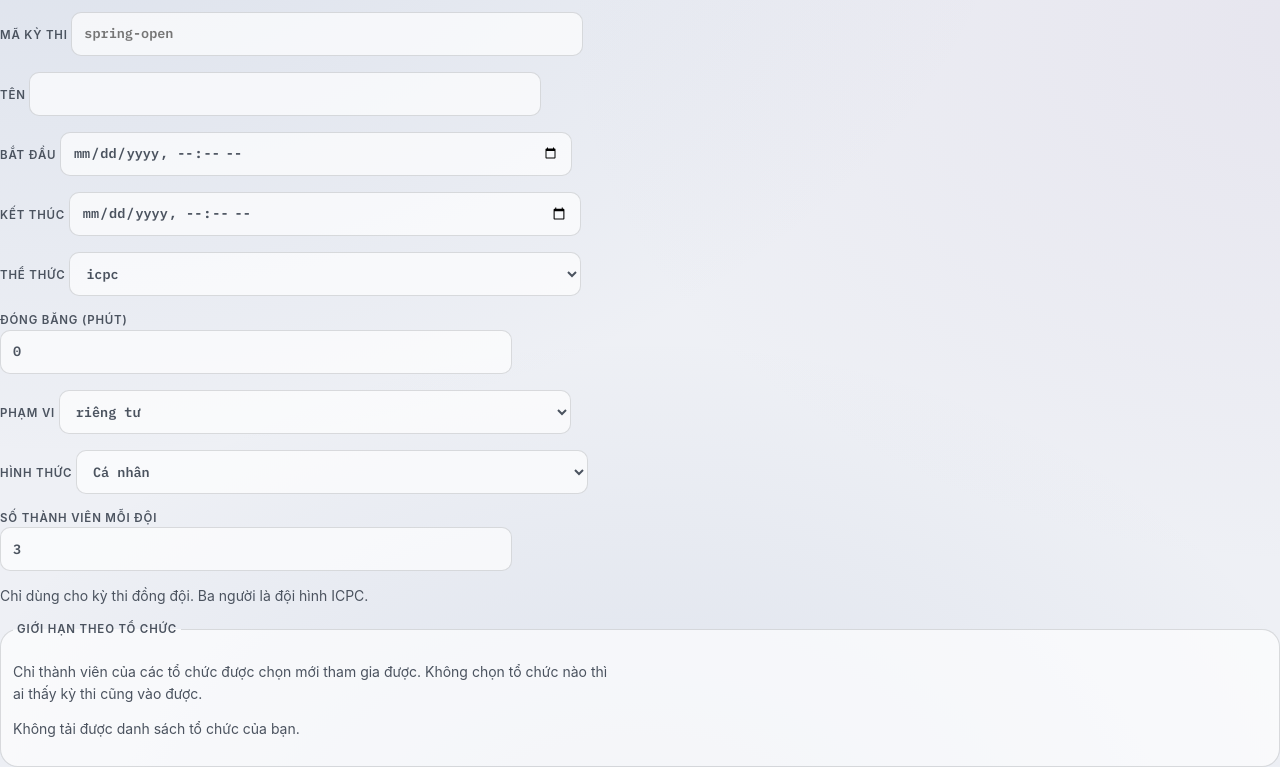
Test case: ContestNewPage transport failures › surfaces a connection message and re-enables the button when the network fails
Type "spring" into the field labelled "Mã kỳ thi" at (327, 34), box [71,12,583,56]
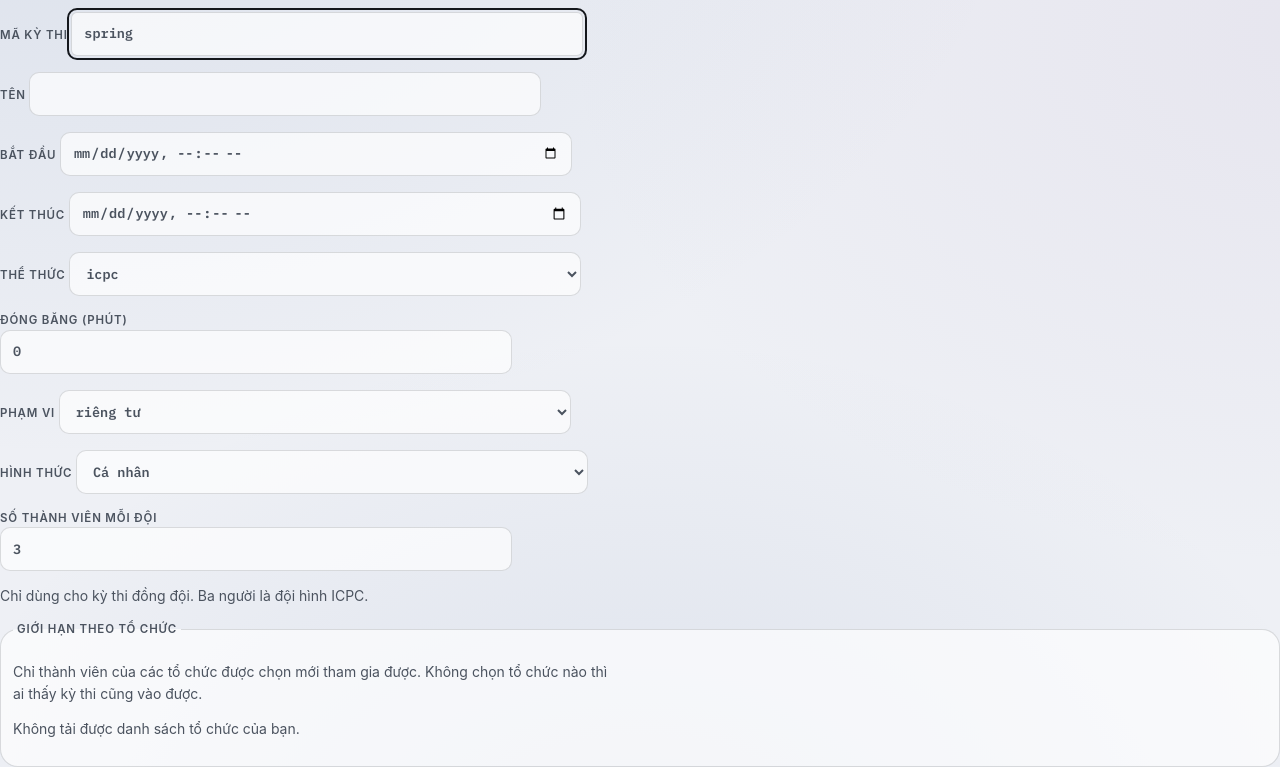
Type "Spring Open" into the field labelled "Tên" at (285, 94), box [29,72,541,116]
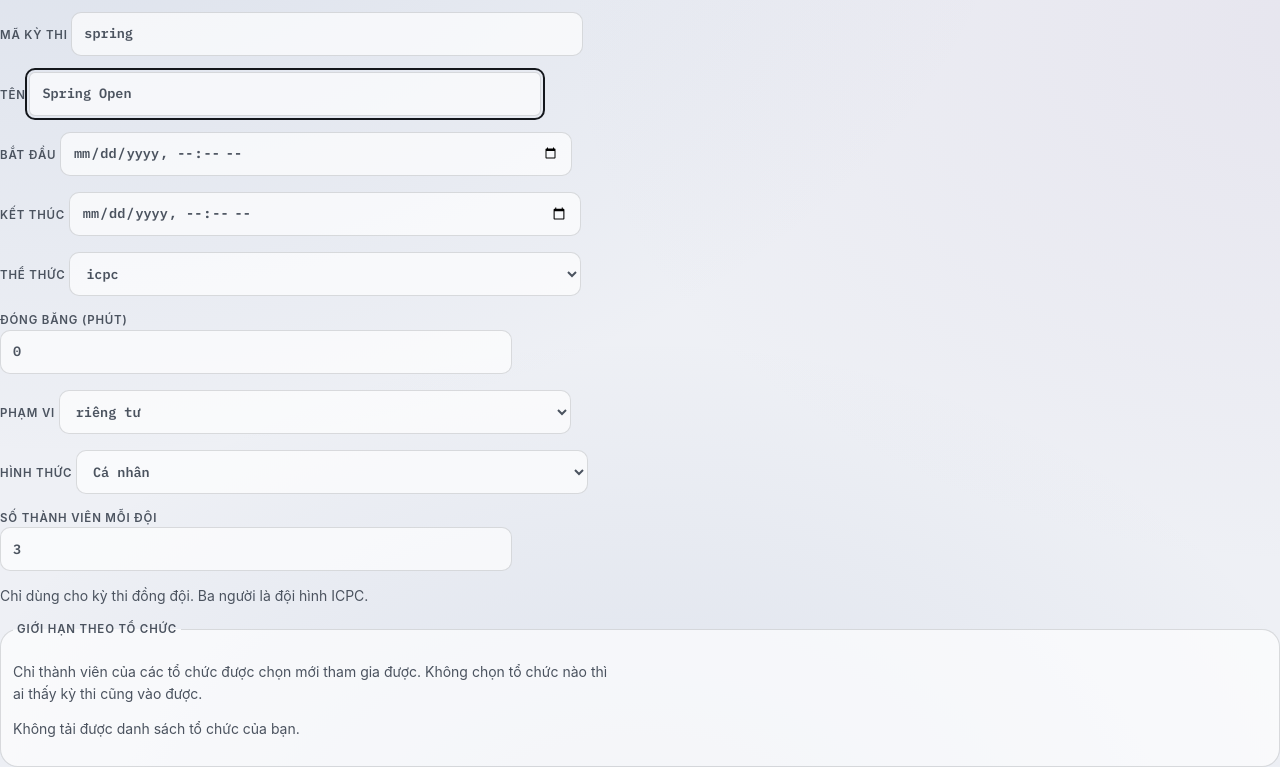
Type "2026-09-01T09:00" into the field labelled "Bắt đầu" at (316, 154), box [60,132,572,176]
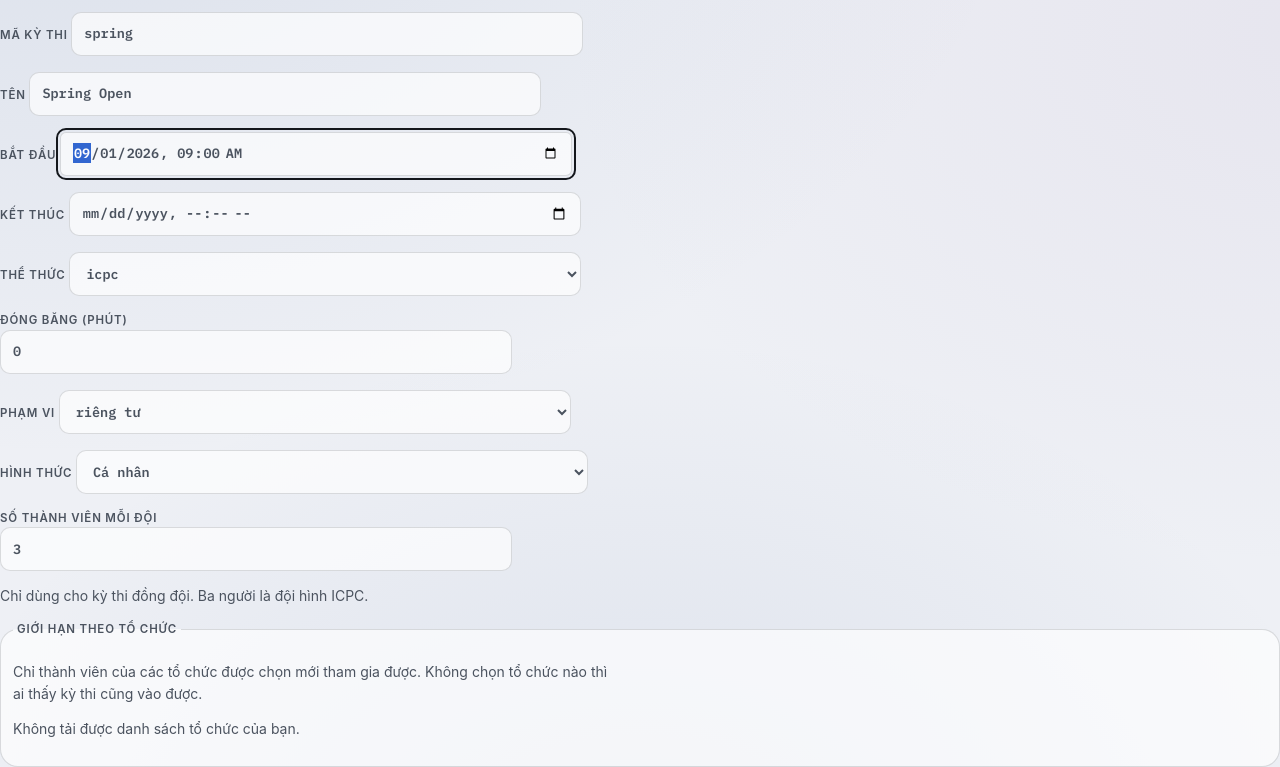
Type "2026-09-01T14:00" into the field labelled "Kết thúc" at (325, 214), box [69,192,581,236]
(page scrolled)
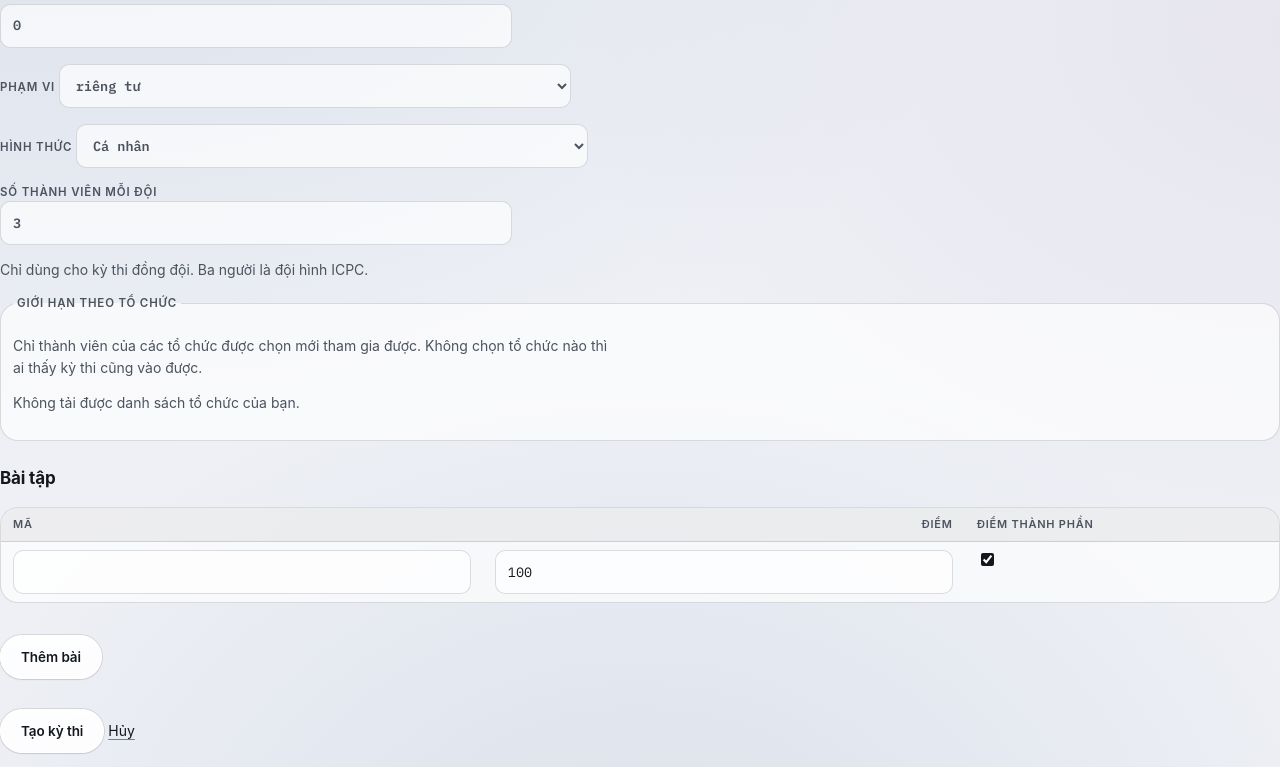
Click the button "Tạo kỳ thi" at (52, 731), box [0,709,104,753]
(page scrolled)
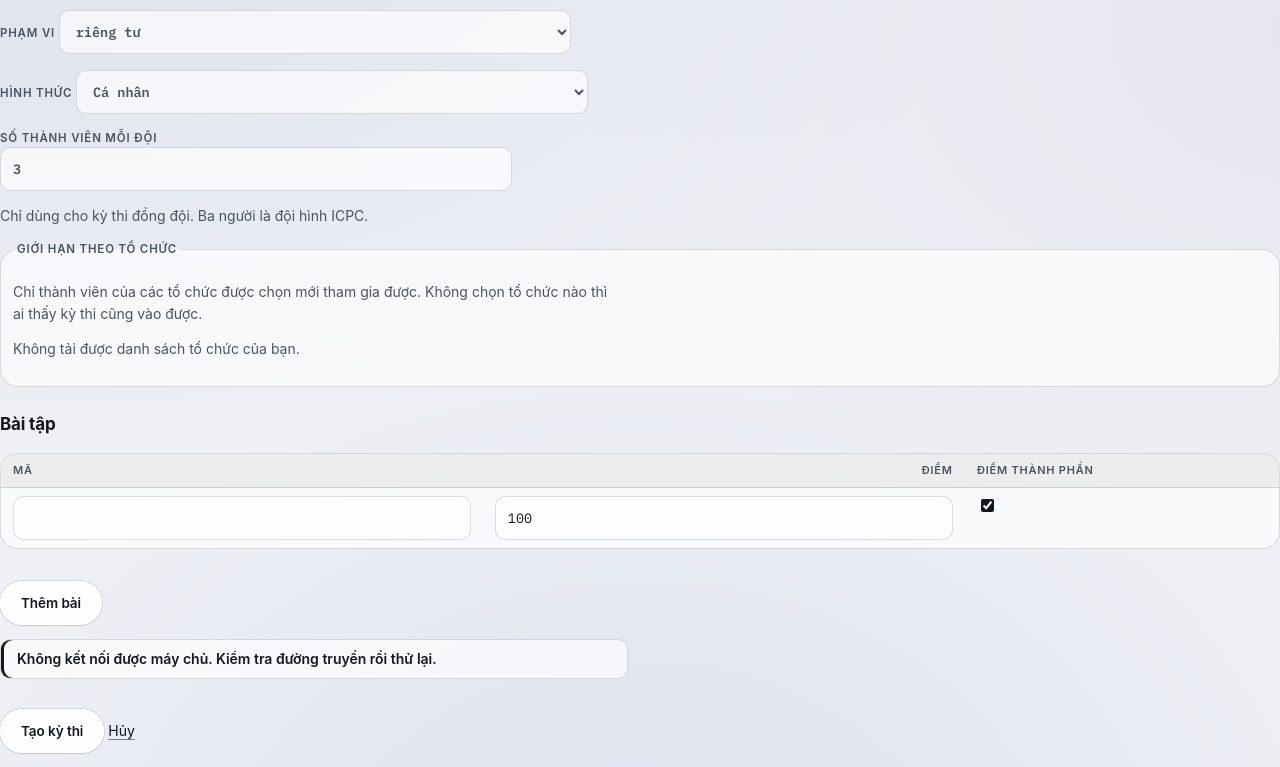
Check: the message shows "Không kết nối được máy chủ", box [17,650,437,667]
